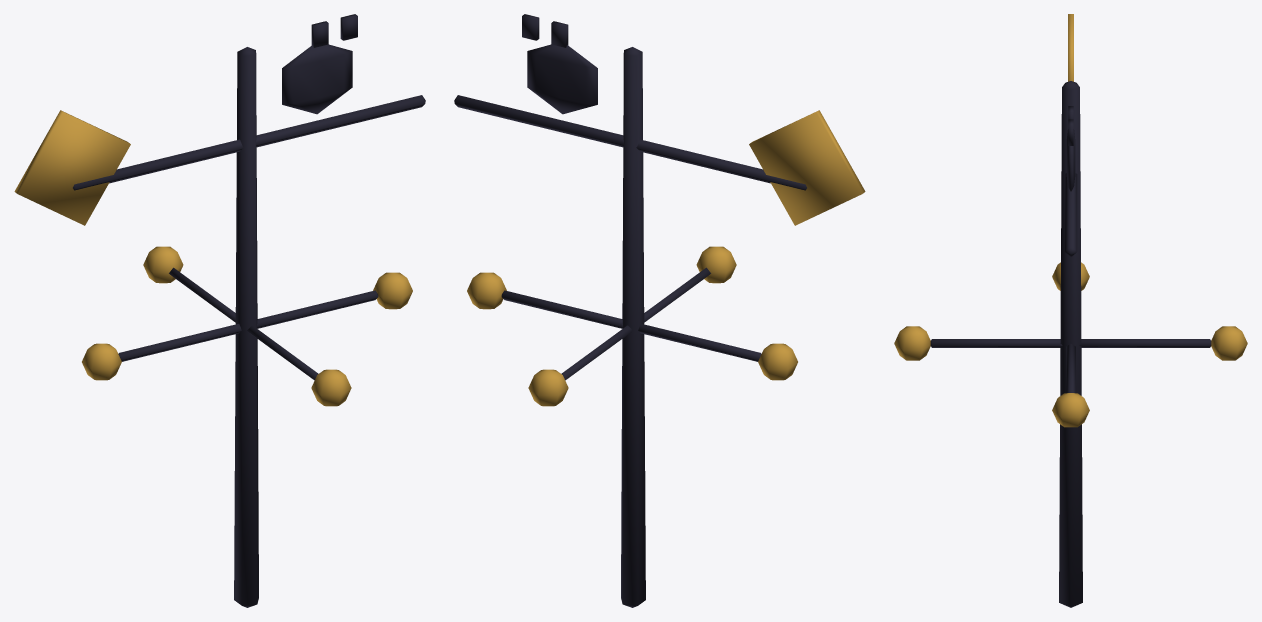
The model's file is weather_vane.glb.
3 views of the same model, side by side, from view 1: azimuth 30°, elevation 25°; view 2: azimuth 150°, elevation 25°; view 3: azimuth 270°, elevation 25° (orthographic). The views are drawn at different scales.
Parts seen in each view (by area): view 1: weather_vane, vane; view 2: weather_vane, vane; view 3: weather_vane, vane.
Part boxes in pixels (x1=…): weather_vane: x1=82, y1=47, x2=412, y2=607; vane: x1=14, y1=14, x2=425, y2=225; weather_vane: x1=467, y1=47, x2=797, y2=607; vane: x1=454, y1=14, x2=865, y2=225; weather_vane: x1=894, y1=81, x2=1247, y2=607; vane: x1=1064, y1=14, x2=1077, y2=256.
Size of the model in its own units: 0.7033 by 0.9295 by 0.56.
